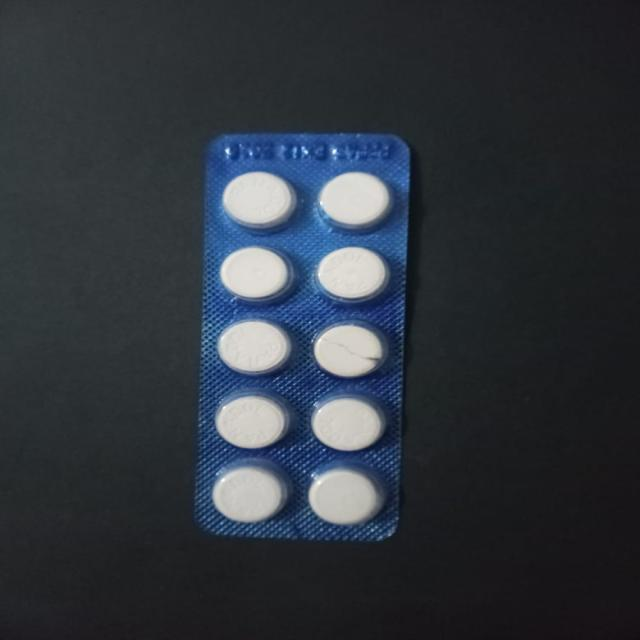defect: (311, 319, 393, 381)
